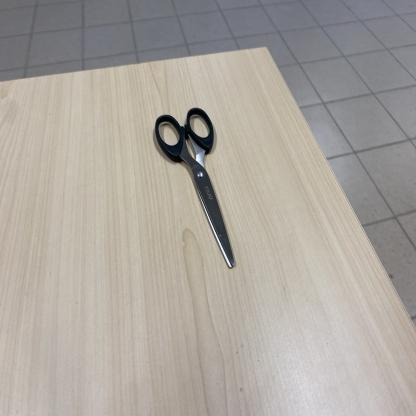scissors: (154, 107, 237, 270)
